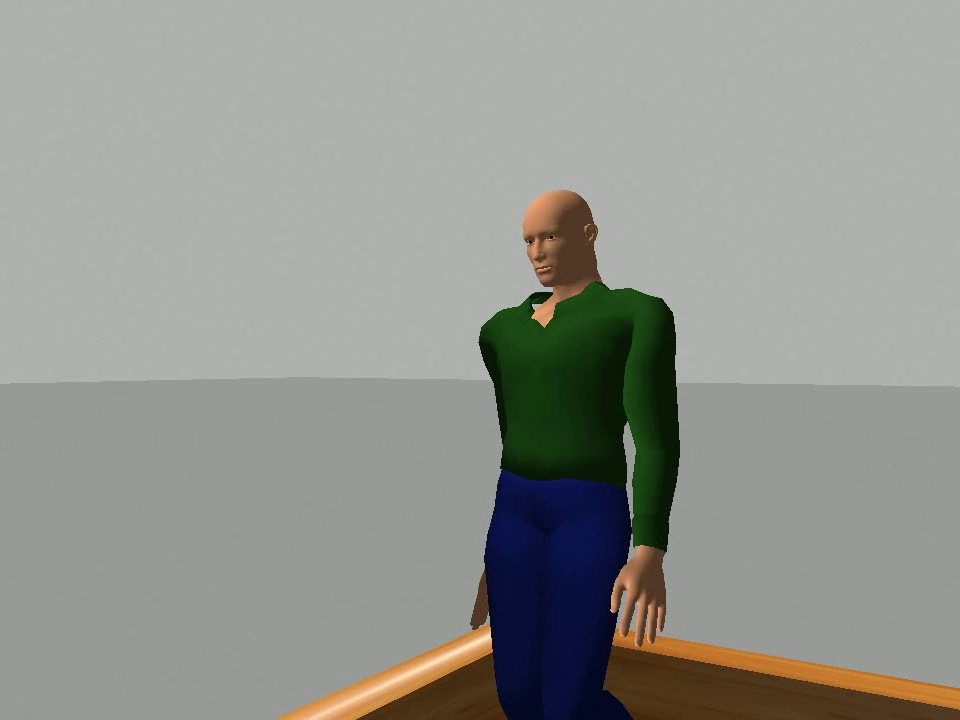person: (466, 187, 688, 720)
